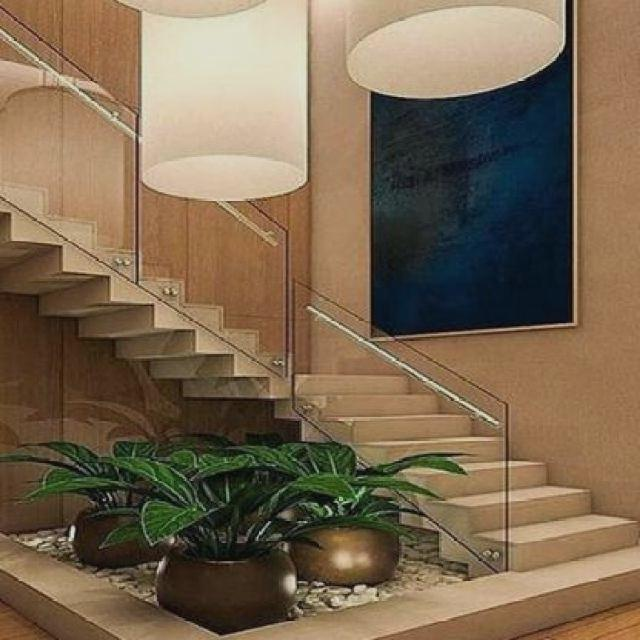stair: (280, 321, 640, 601), (1, 125, 328, 417)
